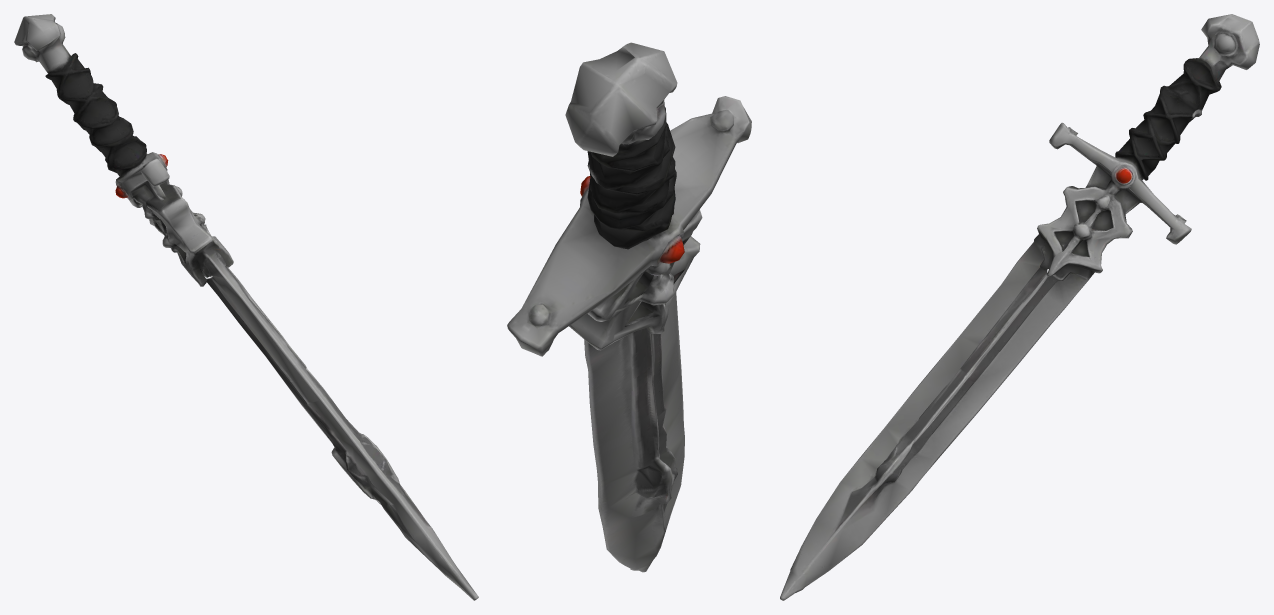
The model's file is w_dagger_fine.glb.
The picture shows the model from 3 angles, left to right: view 1: azimuth 30°, elevation 25°; view 2: azimuth 150°, elevation 25°; view 3: azimuth 270°, elevation 25°; orthographic projection. The views are drawn at different scales.
Parts seen in each view (by area): view 1: tripo_node_f452fd99-087d-46d1-90da-2a3e525cb0b3; view 2: tripo_node_f452fd99-087d-46d1-90da-2a3e525cb0b3; view 3: tripo_node_f452fd99-087d-46d1-90da-2a3e525cb0b3.
Part boxes in pixels (x1=…): tripo_node_f452fd99-087d-46d1-90da-2a3e525cb0b3: x1=14, y1=14, x2=478, y2=600; tripo_node_f452fd99-087d-46d1-90da-2a3e525cb0b3: x1=507, y1=42, x2=751, y2=572; tripo_node_f452fd99-087d-46d1-90da-2a3e525cb0b3: x1=780, y1=14, x2=1259, y2=600.
Size of the model in its own units: 0.5245 by 1 by 0.91.
Materials: 1 (1 with a texture image).
